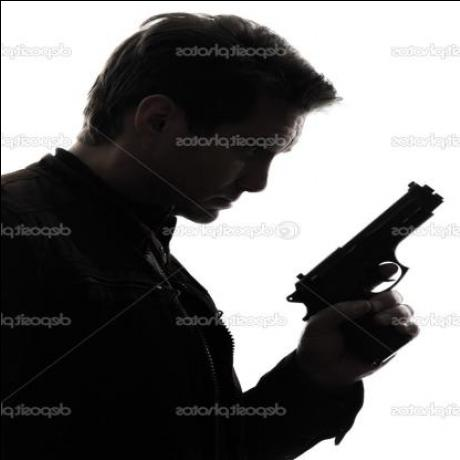1: (1, 10, 417, 460)
weapon: (277, 170, 445, 374)
